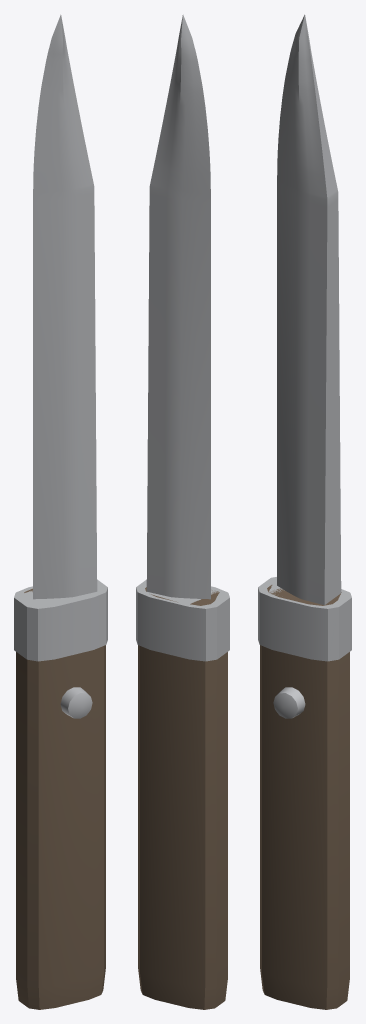
File: switchblade-knife.glb
The picture shows the model from 3 angles, left to right: view 1: azimuth 30°, elevation 25°; view 2: azimuth 150°, elevation 25°; view 3: azimuth 330°, elevation 25°; orthographic projection.
Parts seen in each view (by area): view 1: switchblade-knife; view 2: switchblade-knife; view 3: switchblade-knife.
Part boxes in pixels (x1=…): switchblade-knife: x1=14, y1=14, x2=107, y2=1009; switchblade-knife: x1=136, y1=14, x2=229, y2=1009; switchblade-knife: x1=258, y1=14, x2=351, y2=1009.
Size of the model in its own units: 0.0726 by 0.84 by 0.0546.
